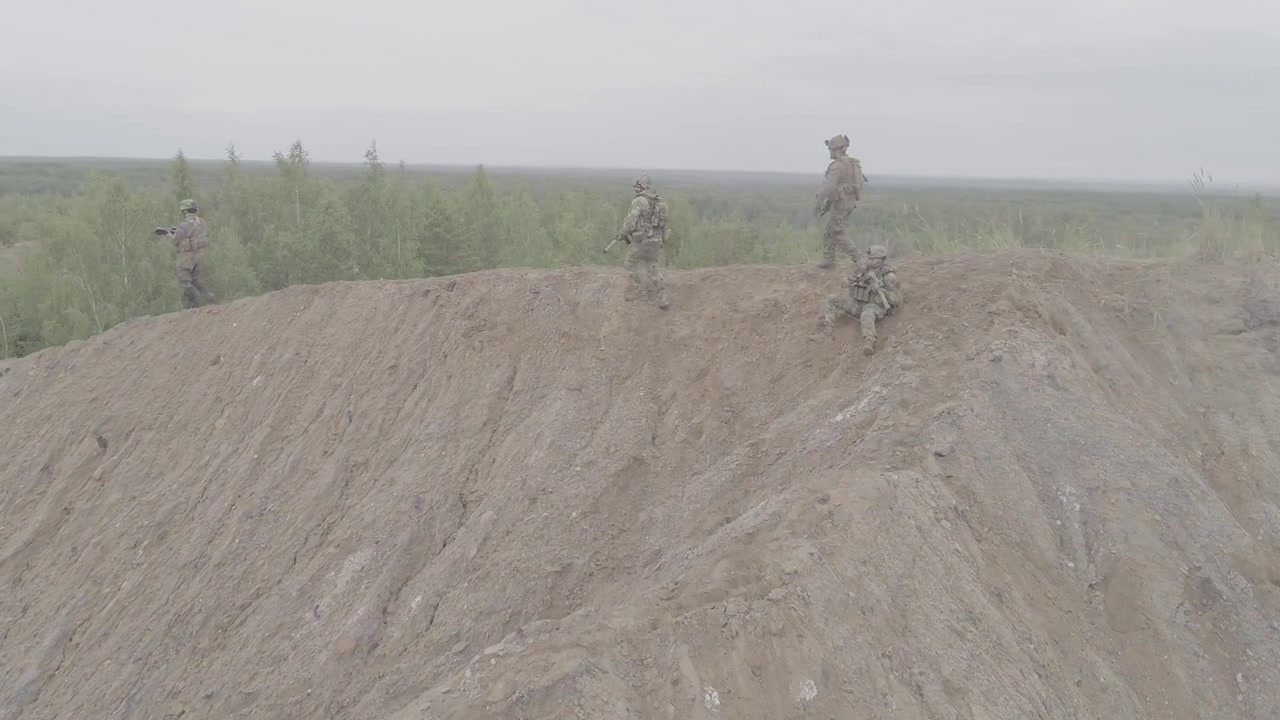person: (816, 246, 912, 357), (810, 132, 870, 269), (614, 174, 675, 305)
